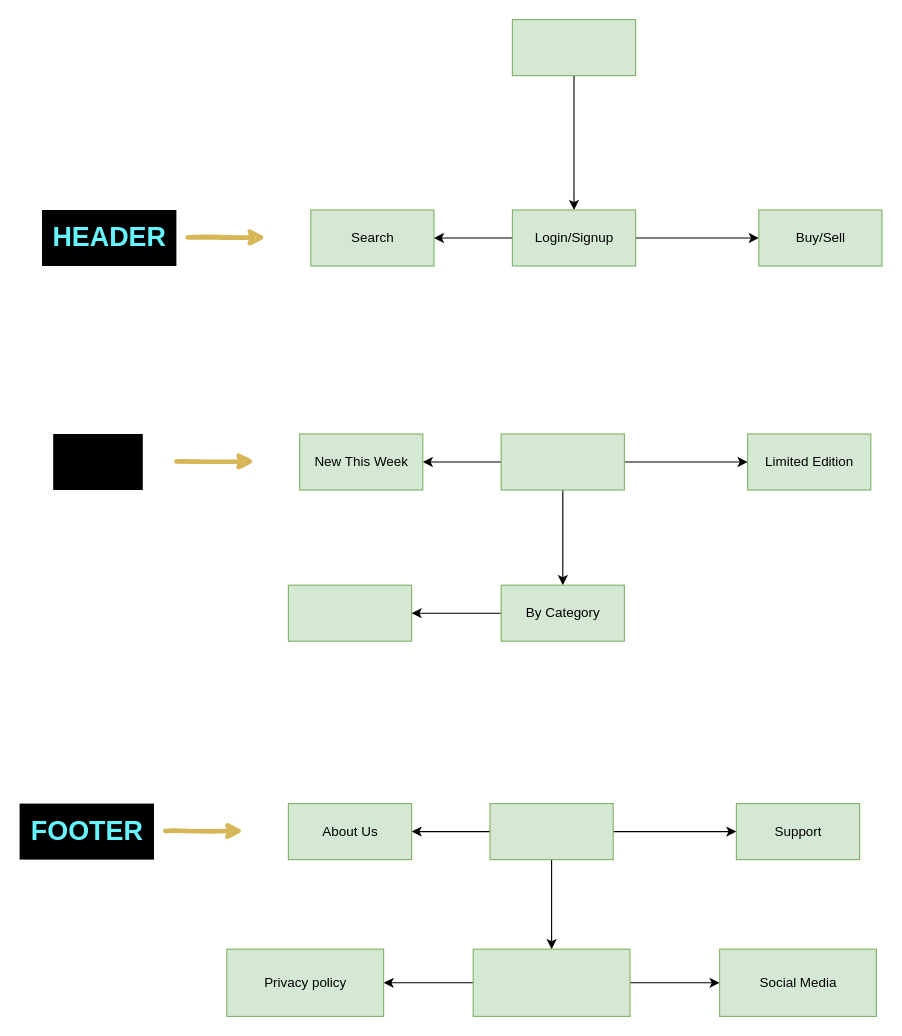
Some shapes in this 902 by 1036 pixel diagram are drawn without their labels. Here are the shapes that lost their labels. From the top down, the centre of each, then its label:
point 573,47: Home
point 97,461: BODY
point 562,461: Trending
point 349,612: Artists
point 551,831: Contact
point 551,982: Terms and Conditions
